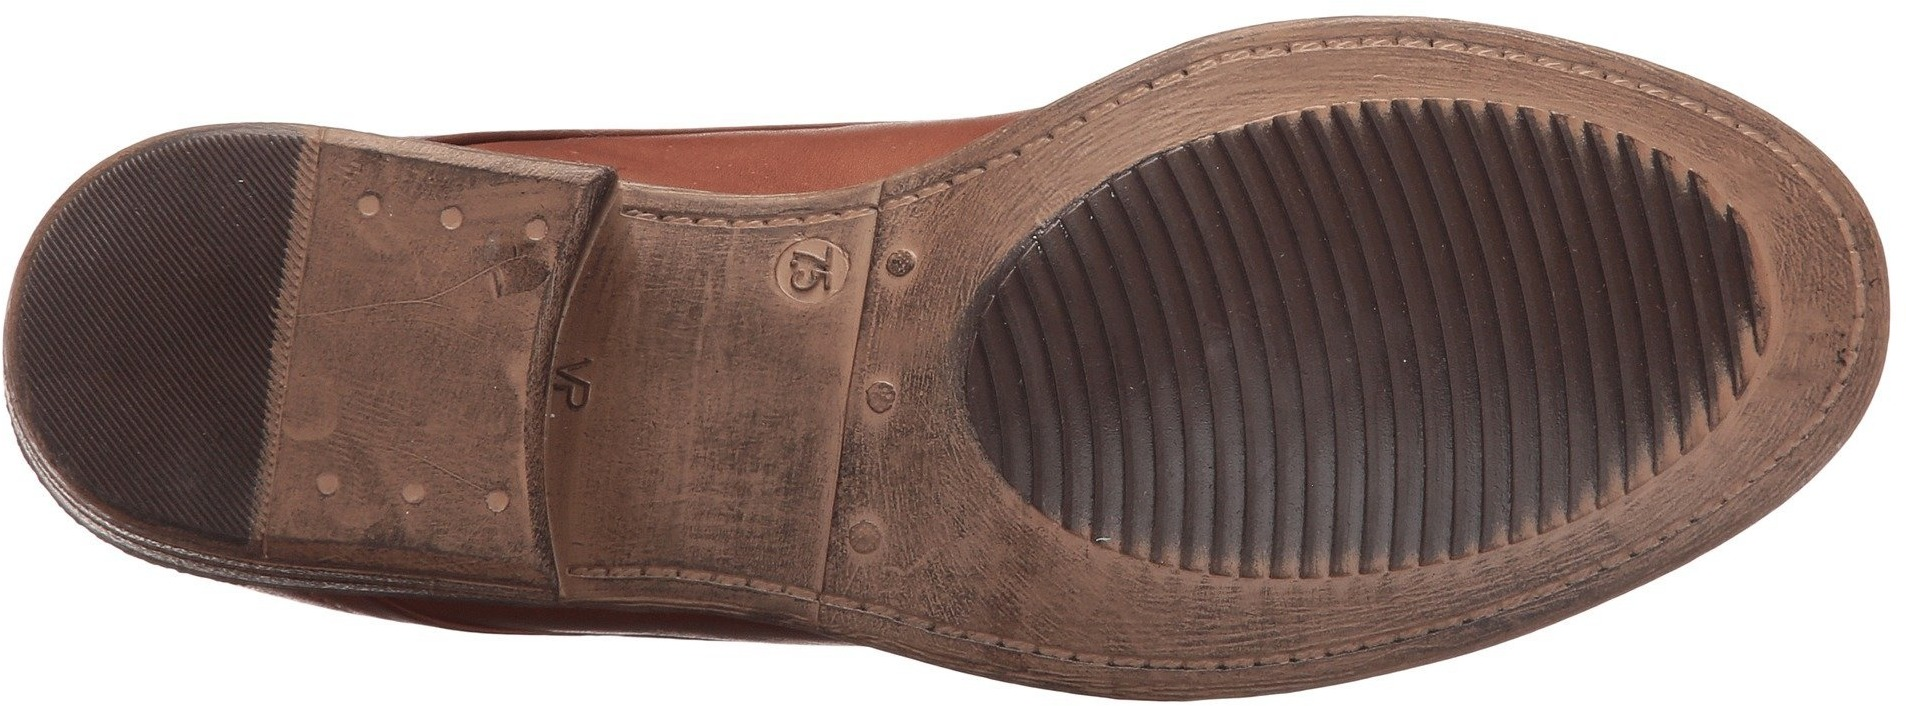circle: (962, 96, 1782, 581), (292, 458, 515, 518), (757, 228, 856, 324)
exclude: (518, 115, 944, 670)
line: (955, 97, 1772, 574), (11, 134, 321, 550), (1116, 188, 1436, 512), (61, 213, 263, 411), (1439, 139, 1632, 332)
text: (785, 245, 838, 296)
